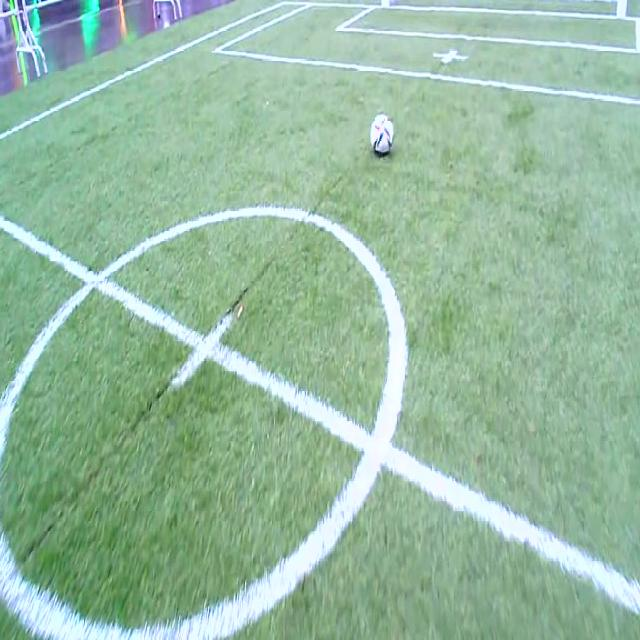ball: (370, 114, 394, 154)
